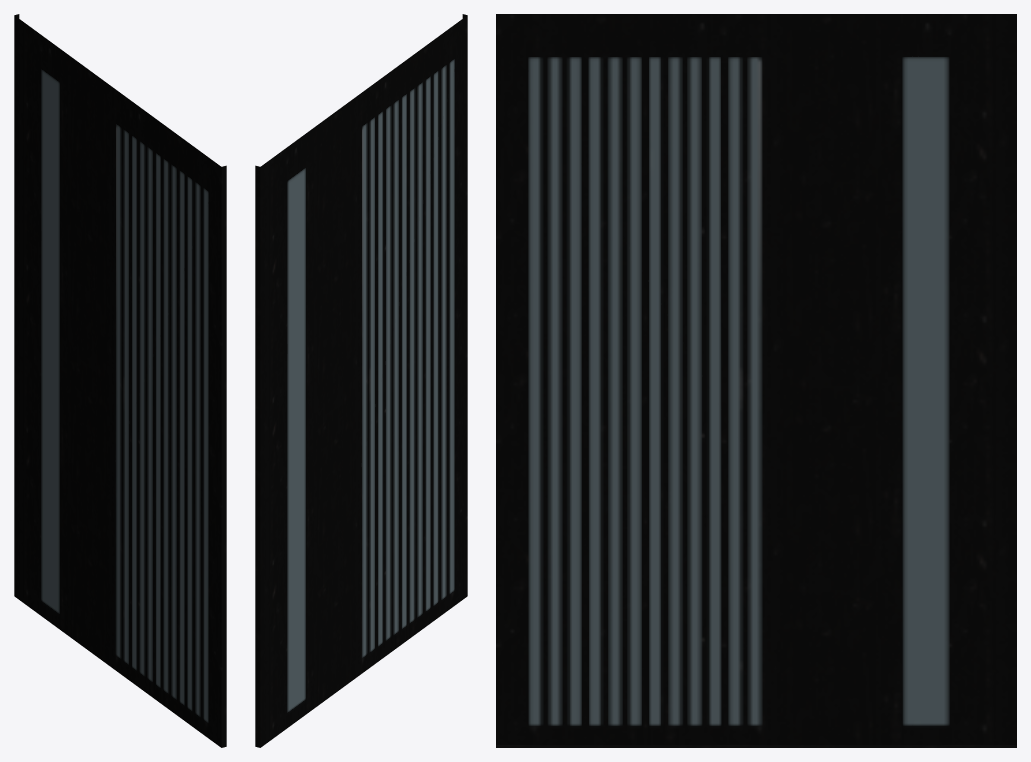
Rendered from KotoHouse_03.fbx.
3 views of the same model, side by side, from view 1: azimuth 30°, elevation 25°; view 2: azimuth 150°, elevation 25°; view 3: azimuth 270°, elevation 25° (orthographic). The views are drawn at different scales.
Visible parts, largest first — view 1: SM_KotoHouse002; view 2: SM_KotoHouse002; view 3: SM_KotoHouse002.
Part boxes in pixels (x1,y1,x2,y2): SM_KotoHouse002: (14, 14, 226, 747); SM_KotoHouse002: (255, 14, 467, 747); SM_KotoHouse002: (496, 14, 1016, 747).
Size of the model in its own units: 1.46 by 160 by 103.
1 material, 1 textured.
